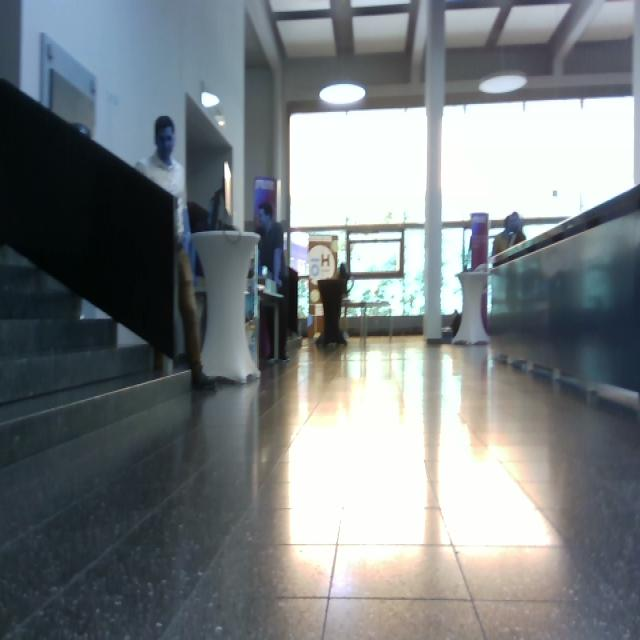door: (38, 32, 110, 348)
light bulb: (319, 83, 367, 107), (479, 72, 528, 94), (223, 161, 232, 214), (201, 92, 220, 109), (73, 123, 91, 139), (215, 115, 226, 127)
person: (135, 116, 218, 392), (257, 201, 291, 364)
pillar: (423, 1, 446, 342)
tiled floor: (2, 332, 639, 638)
